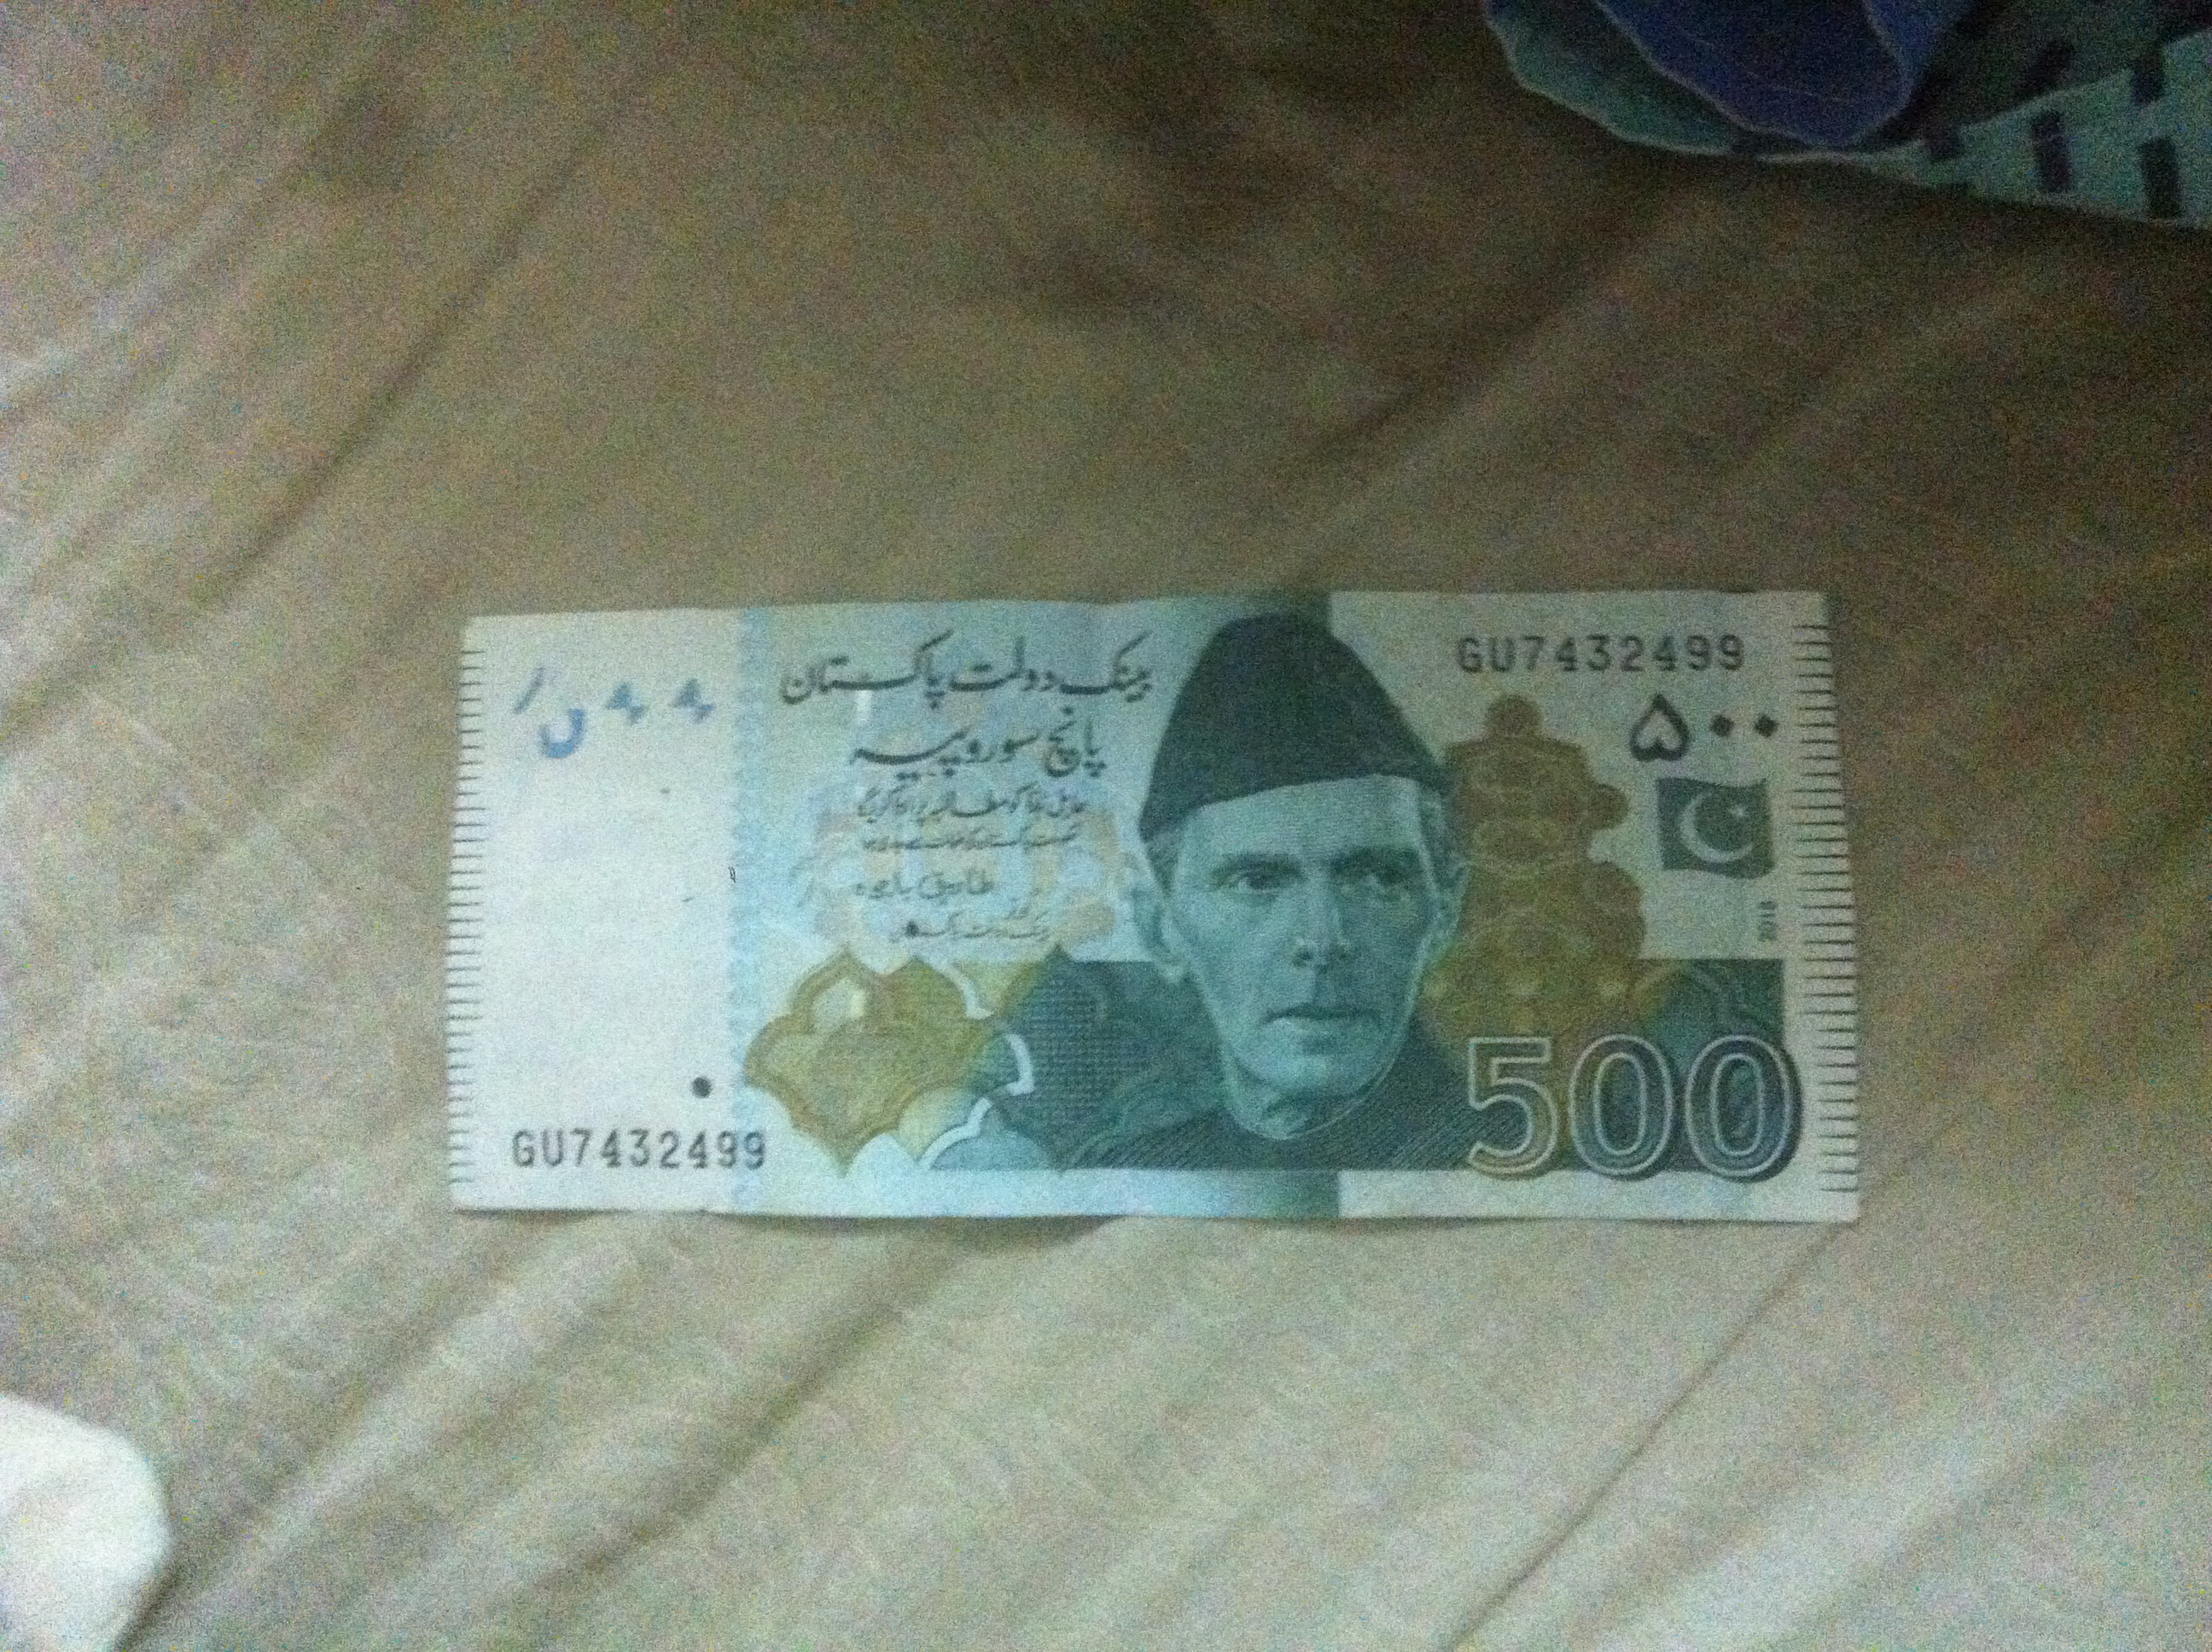500 rupee: (409, 562, 1910, 1237)
